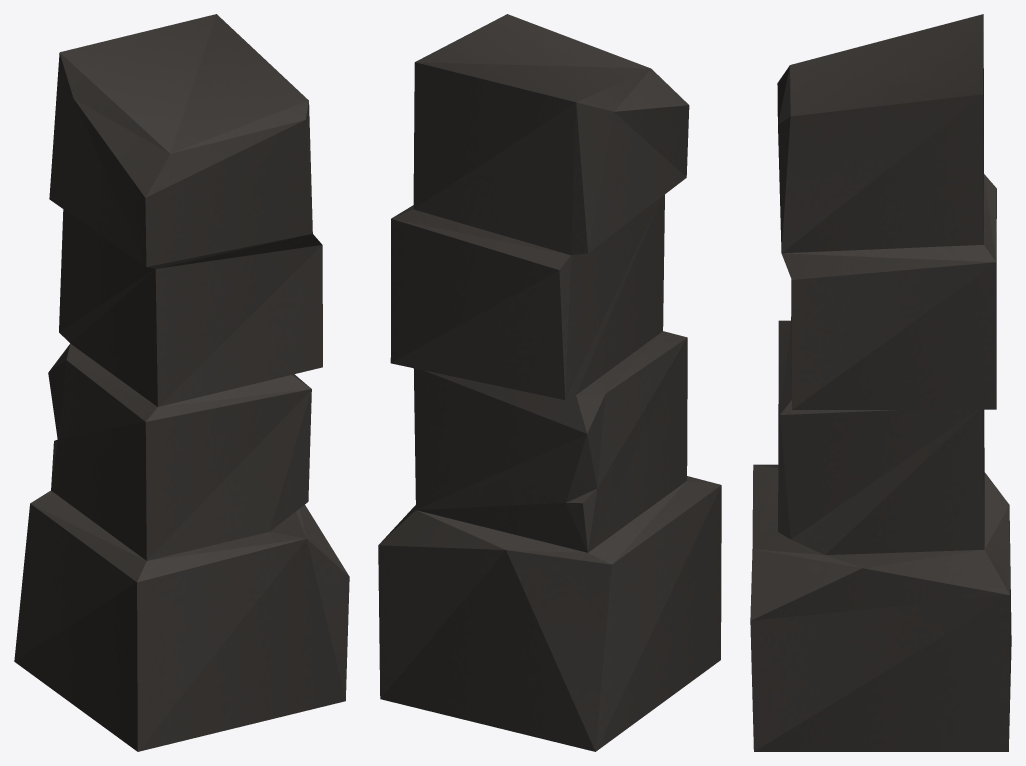
The model's file is Pillar_2.fbx.
The picture shows the model from 3 angles, left to right: view 1: azimuth 30°, elevation 25°; view 2: azimuth 150°, elevation 25°; view 3: azimuth 270°, elevation 25°; orthographic projection. The views are drawn at different scales.
Parts seen in each view (by area): view 1: polySurface550; view 2: polySurface550; view 3: polySurface550.
Part boxes in pixels (x1,y1,x2,y2): polySurface550: [14, 14, 349, 751]; polySurface550: [378, 14, 721, 751]; polySurface550: [750, 14, 1011, 751].
Size of the model in its own units: 150 by 415 by 152.
Materials: 1 (1 with a texture image).
